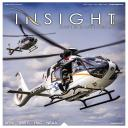helicopter: (5, 48, 124, 115), (6, 29, 57, 57)
